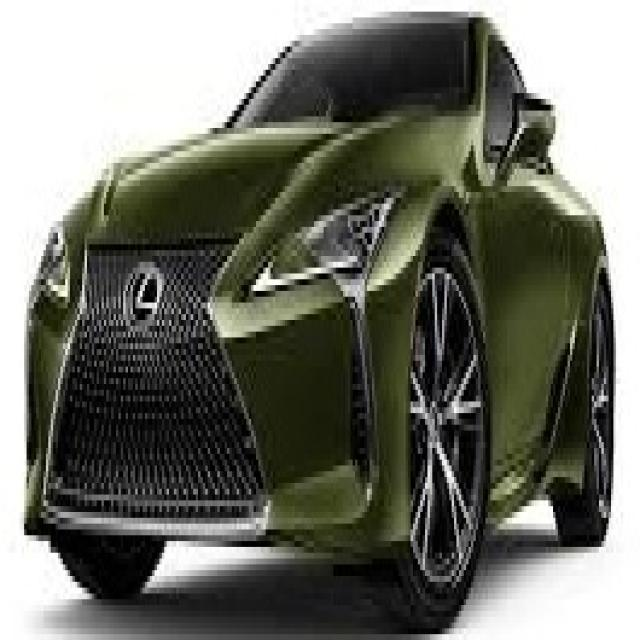green: (24, 10, 614, 627)
